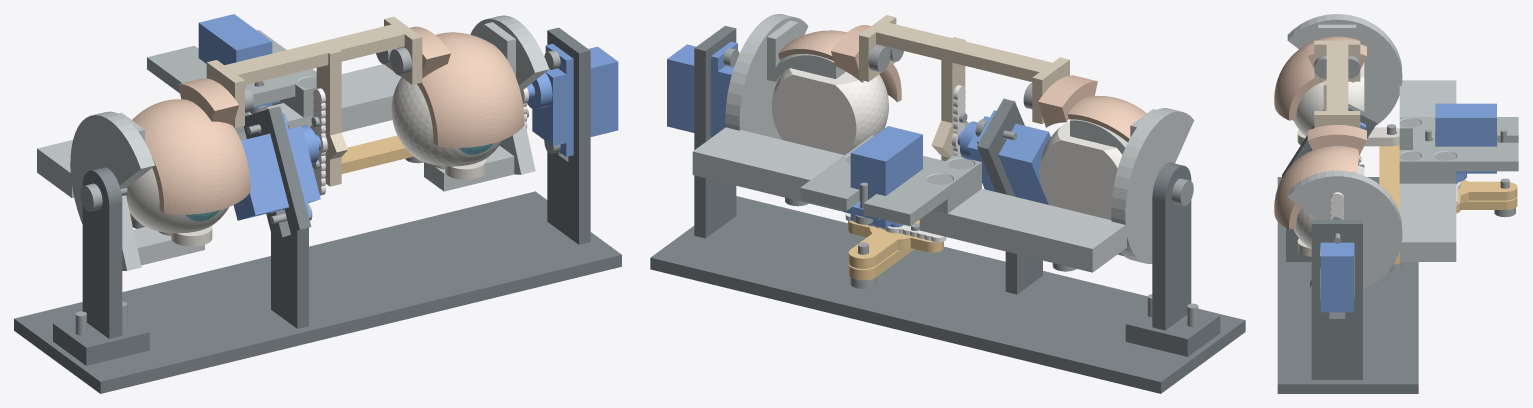
File: assembly.glb
3 renders of one model, left to right at view 1: azimuth 30°, elevation 25°; view 2: azimuth 150°, elevation 25°; view 3: azimuth 270°, elevation 25°, orthographic. The views are drawn at different scales.
Visible parts, largest first — view 1: base, lid_L, lid_R, frame_R, pivot_bracket, lid_carrier, frame_L, servo_pitch, servo_lid, yaw_mount, eye_R, servo_yaw (+7 smaller); view 2: base, frame_L, frame_R, pivot_bracket, lid_carrier, eye_R, yaw_mount, eye_L, servo_yaw, servo_pitch, lid_L, servo_lid (+5 smaller); view 3: base, frame_R, frame_L, yaw_mount, lid_R, lid_carrier, servo_yaw, lid_L, servo_pitch, coupler, eye_L, yaw_crank (+6 smaller).
Boxes of the visible parts, left/top/right/bottom form: base: left=14, top=27, right=621, bottom=393; lid_L: left=132, top=78, right=250, bottom=214; lid_R: left=410, top=26, right=524, bottom=147; frame_R: left=267, top=15, right=548, bottom=191; pivot_bracket: left=53, top=167, right=149, bottom=365; lid_carrier: left=206, top=16, right=422, bottom=186; frame_L: left=37, top=111, right=251, bottom=270; servo_pitch: left=527, top=43, right=618, bottom=156; servo_lid: left=233, top=114, right=321, bottom=220; yaw_mount: left=147, top=30, right=316, bottom=133; eye_R: left=391, top=77, right=502, bottom=166; servo_yaw: left=198, top=14, right=279, bottom=107; base: left=650, top=25, right=1245, bottom=393; frame_L: left=919, top=108, right=1193, bottom=272; frame_R: left=692, top=14, right=845, bottom=211; pivot_bracket: left=1125, top=162, right=1220, bottom=356; lid_carrier: left=859, top=15, right=1069, bottom=160; eye_R: left=772, top=68, right=888, bottom=154; yaw_mount: left=800, top=135, right=981, bottom=226; eye_L: left=1039, top=121, right=1122, bottom=219; servo_yaw: left=843, top=126, right=922, bottom=228; servo_pitch: left=667, top=41, right=737, bottom=137; lid_L: left=1038, top=75, right=1146, bottom=142; servo_lid: left=957, top=110, right=1050, bottom=205; base: left=1277, top=103, right=1418, bottom=393; frame_R: left=1287, top=170, right=1456, bottom=291; frame_L: left=1287, top=14, right=1456, bottom=125; yaw_mount: left=1399, top=117, right=1518, bottom=183; lid_R: left=1274, top=125, right=1366, bottom=229; lid_carrier: left=1314, top=40, right=1361, bottom=164; servo_yaw: left=1435, top=103, right=1497, bottom=184; lid_L: left=1274, top=36, right=1366, bottom=120; servo_pitch: left=1320, top=242, right=1353, bottom=312; coupler: left=1379, top=145, right=1517, bottom=264; eye_L: left=1293, top=62, right=1364, bottom=136; yaw_crank: left=1456, top=180, right=1517, bottom=213.
Size of the model in its own units: 189 by 85 by 90.3.
